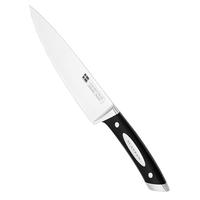knife: (24, 4, 167, 190)
